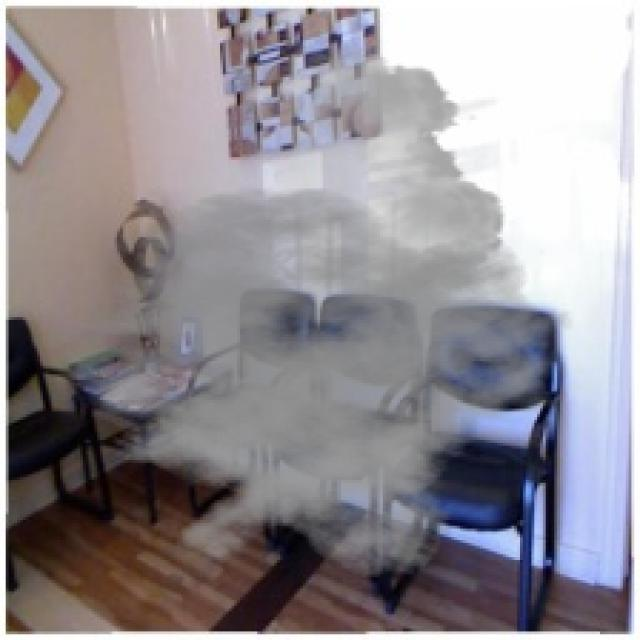smoke: (29, 37, 574, 580)
